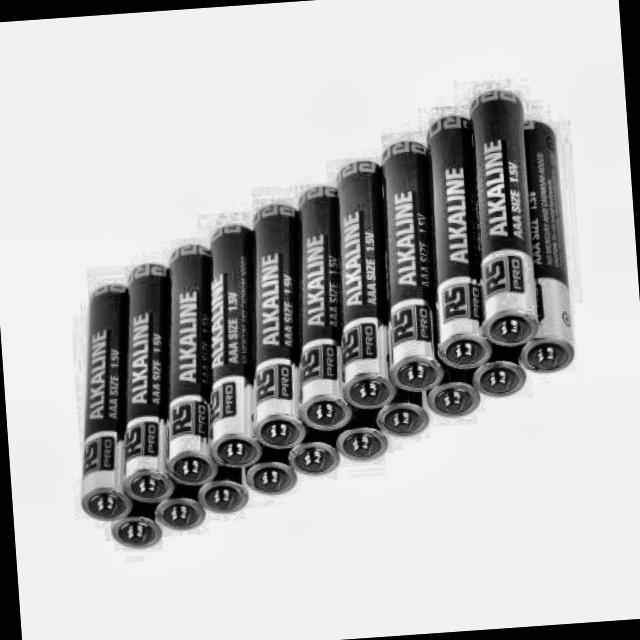drycell: (459, 83, 542, 350), (499, 116, 583, 378)
